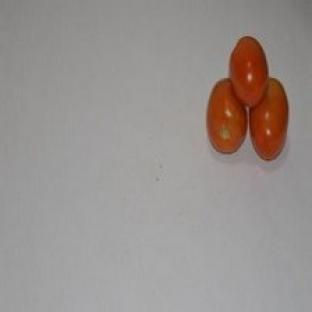Tomato: (250, 78, 288, 160), (207, 78, 247, 153), (230, 37, 268, 107)
